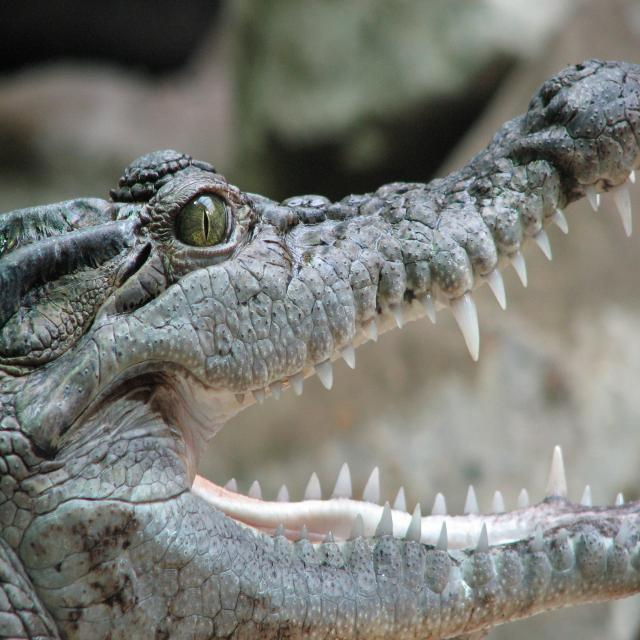crocodile: (0, 21, 640, 640)
